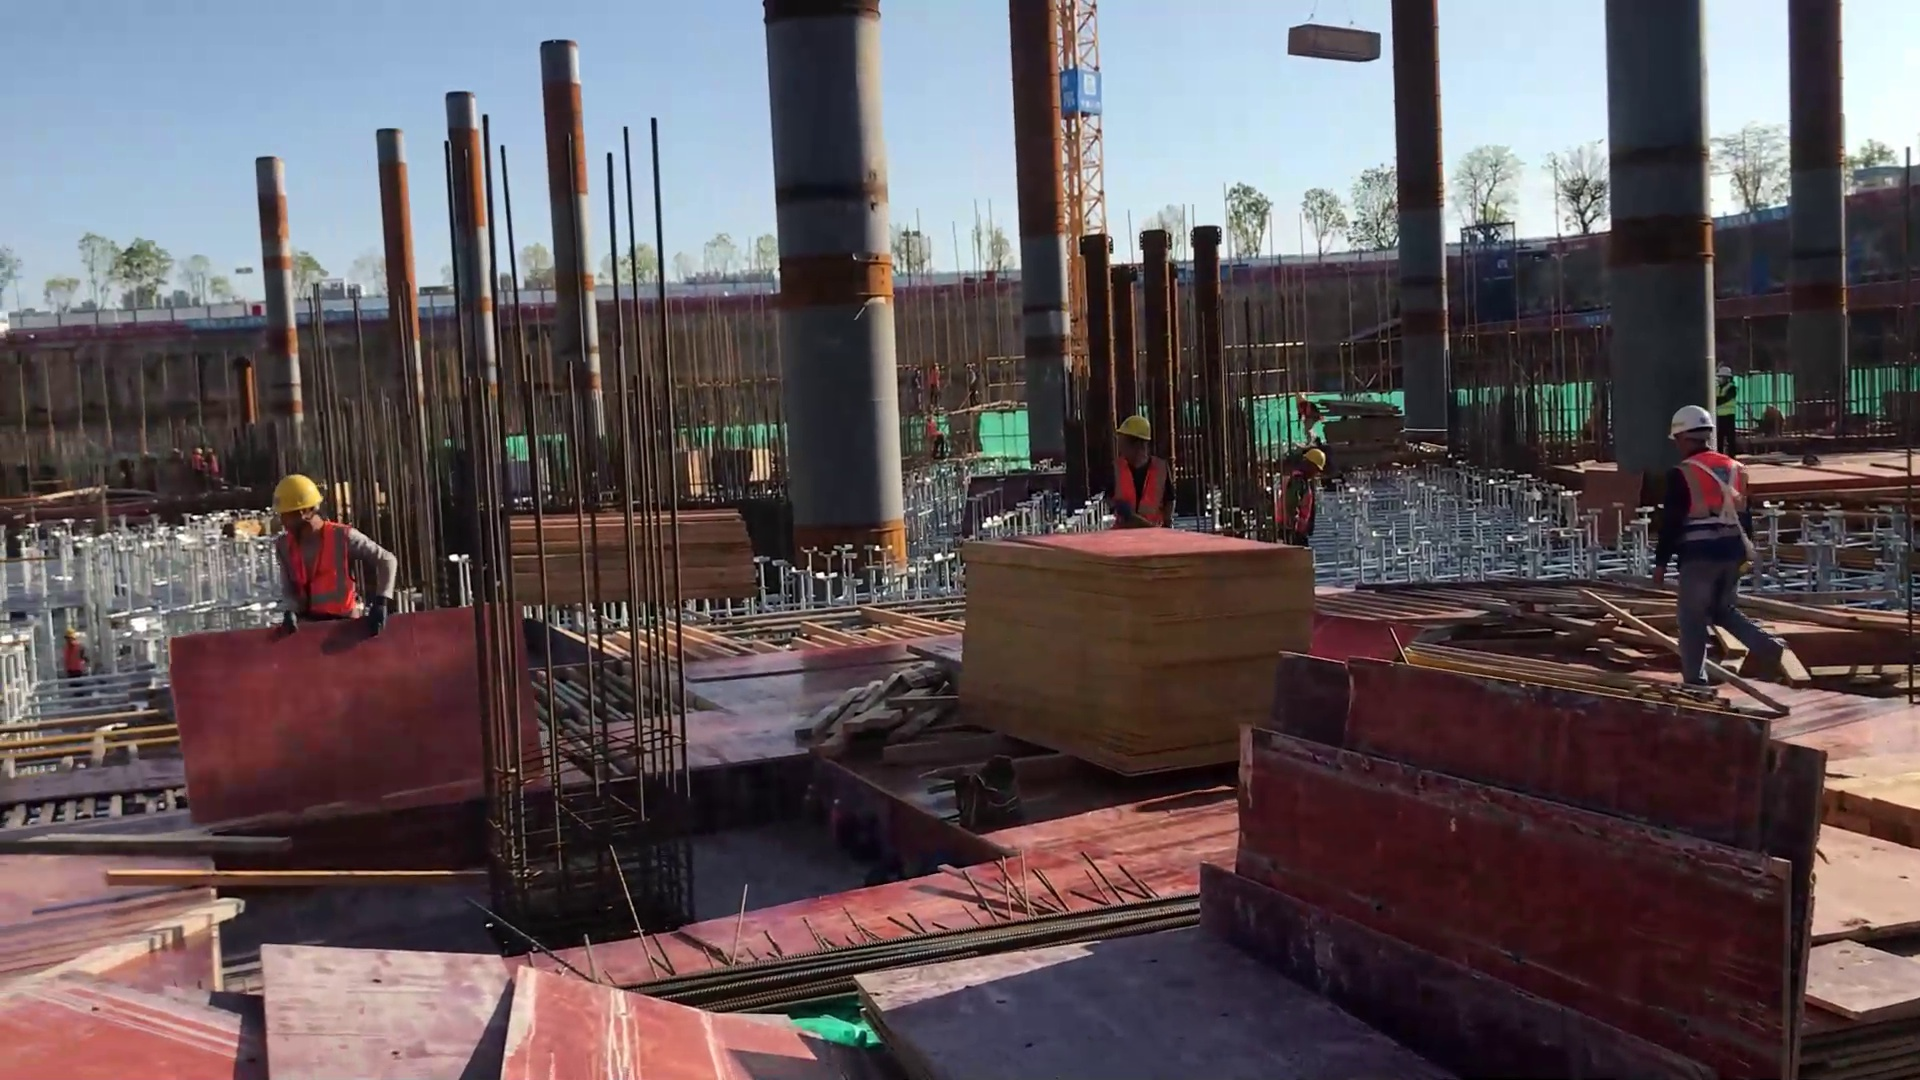board: (949, 517, 1335, 792), (498, 497, 769, 628)
helmet: (266, 470, 327, 519), (1666, 401, 1718, 440), (1115, 412, 1159, 447), (1304, 445, 1328, 470), (1713, 360, 1734, 378)
person: (1650, 403, 1795, 694), (254, 462, 406, 648), (1098, 408, 1182, 543), (1271, 444, 1330, 556), (1711, 362, 1745, 455)
vest: (270, 522, 363, 623), (1663, 451, 1751, 551), (1105, 451, 1168, 532), (1277, 471, 1316, 536), (1717, 381, 1739, 420)
